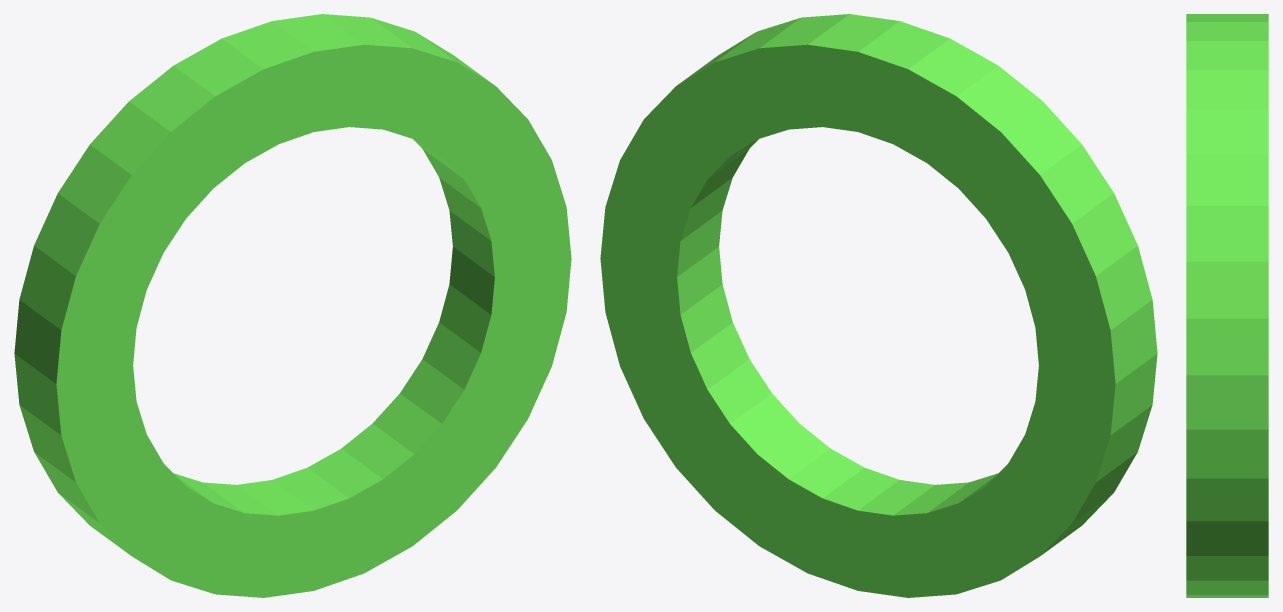
Rendered from クリア用の丸.fbx.
3 views of the same model, side by side, from view 1: azimuth 30°, elevation 25°; view 2: azimuth 150°, elevation 25°; view 3: azimuth 270°, elevation 25° (orthographic).
Parts seen in each view (by area): view 1: 円柱; view 2: 円柱; view 3: 円柱.
Boxes of the visible parts, x1,y1,x2,y2 form: 円柱: (14,14,571,597); 円柱: (600,14,1157,597); 円柱: (1186,14,1268,597).
Bounding box in the file's own units: 6.25 × 6.25 × 0.8823.
